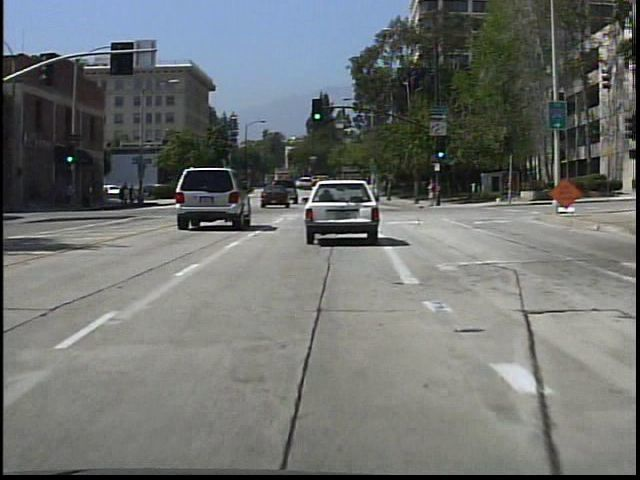person: (422, 174, 438, 209), (118, 178, 132, 205)
